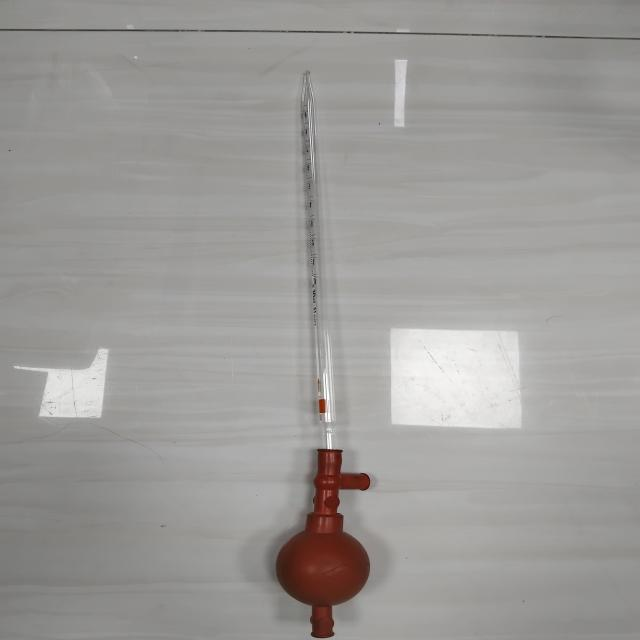Volumetric_Pipet: (227, 34, 421, 640)
